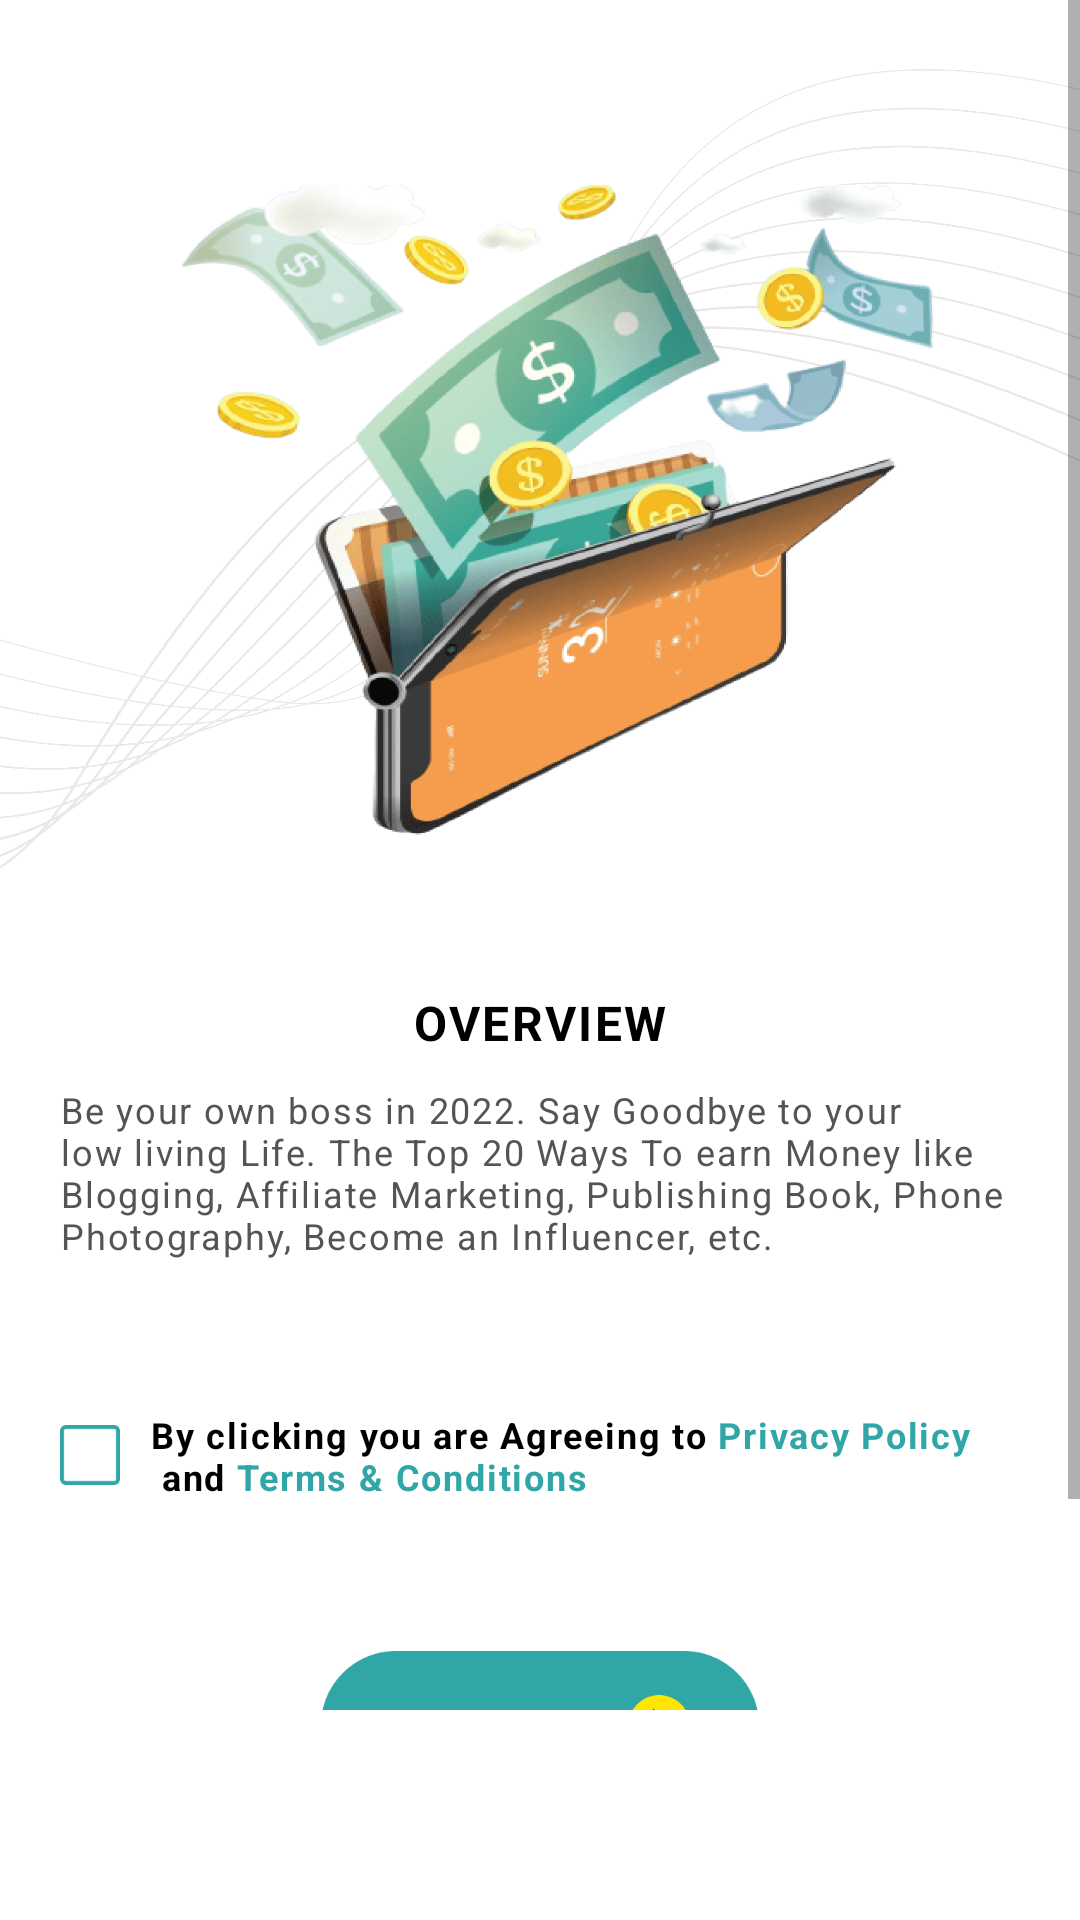

Point at icon controls on the screen. Image size 1080w x 1920h, points as (x=x, y=y).
check uncheck: (x=90, y=1455)
